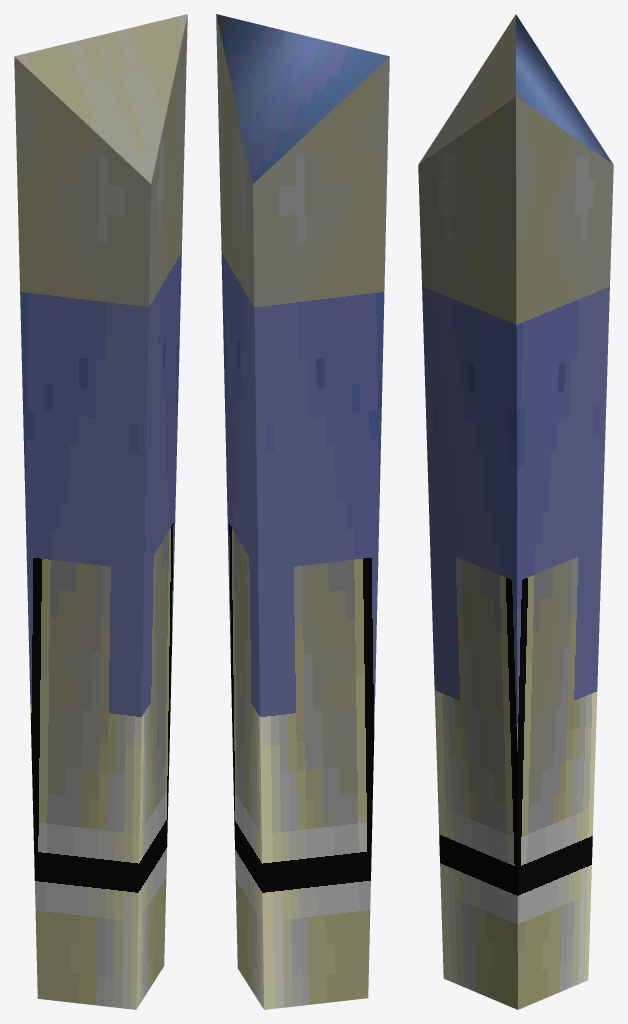
Rendered from ImagingPoleY_Anim.glb.
3 views of the same model, side by side, from view 1: azimuth 30°, elevation 25°; view 2: azimuth 150°, elevation 25°; view 3: azimuth 270°, elevation 25° (orthographic). The views are drawn at different scales.
Visible parts, largest first — view 1: ImagingPoleY_Anim_part00; view 2: ImagingPoleY_Anim_part00; view 3: ImagingPoleY_Anim_part00.
Part boxes in pixels (x1,y1,x2,y2): ImagingPoleY_Anim_part00: [14, 14, 187, 1009]; ImagingPoleY_Anim_part00: [216, 14, 389, 1009]; ImagingPoleY_Anim_part00: [418, 14, 613, 1009].
Size of the model in its own units: 2.04 by 10.62 by 2.04.
Materials: 2 (2 with a texture image).
